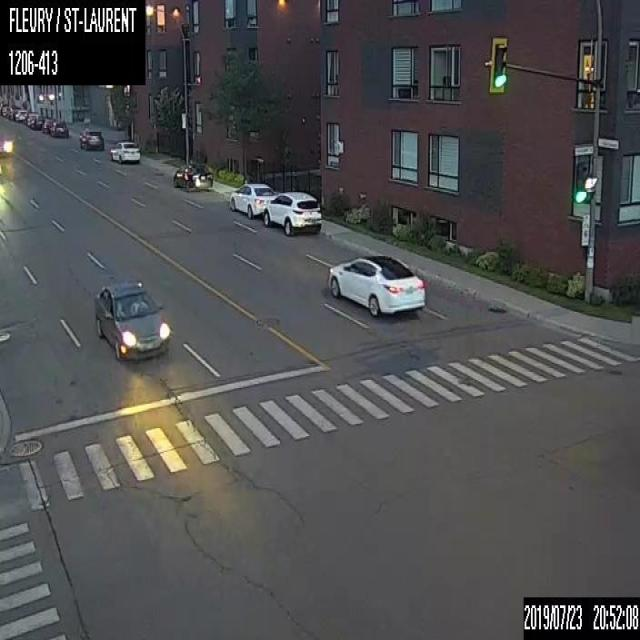vehicle: (92, 276, 170, 363), (326, 251, 426, 317), (263, 191, 321, 236), (229, 182, 275, 218), (172, 162, 212, 190), (109, 138, 140, 162), (78, 126, 104, 150), (50, 120, 68, 137), (0, 133, 13, 155), (41, 116, 56, 134), (29, 113, 42, 128), (24, 111, 36, 125)
